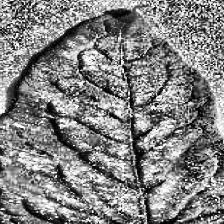spider mites: (0, 15, 224, 224)
